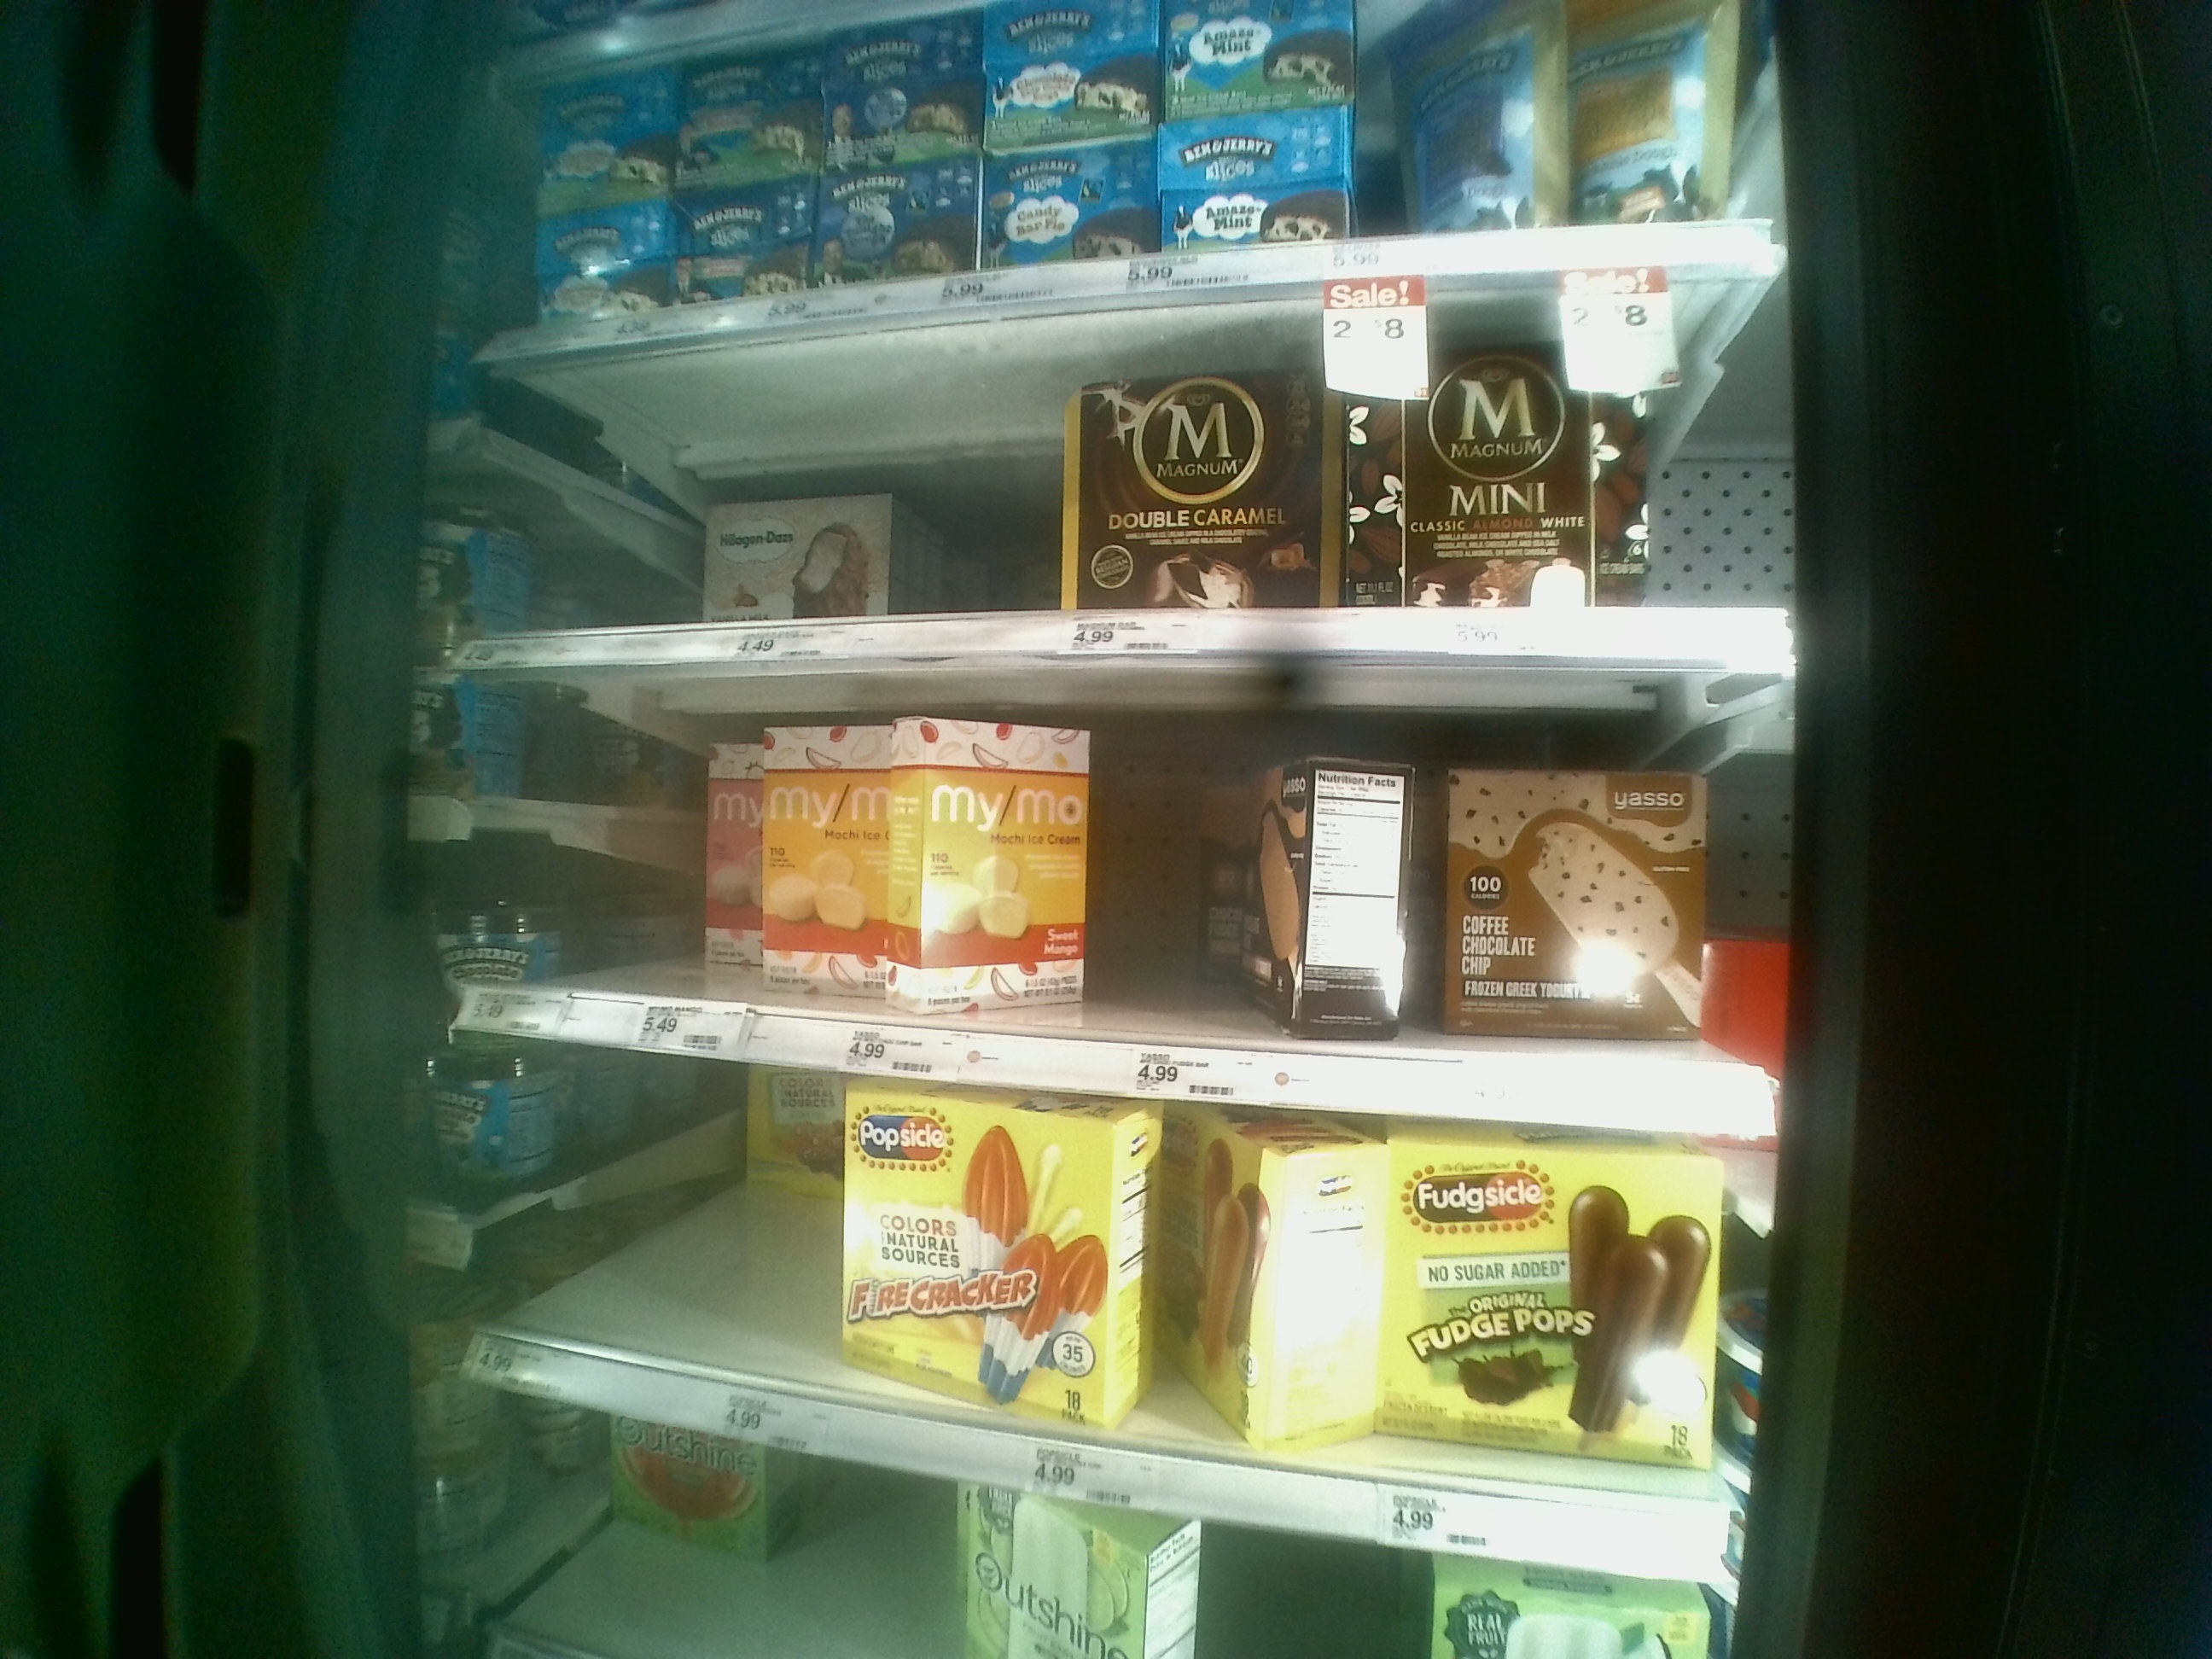shelf: (444, 1042, 1747, 1584), (467, 666, 1794, 1140), (467, 270, 1789, 671)
